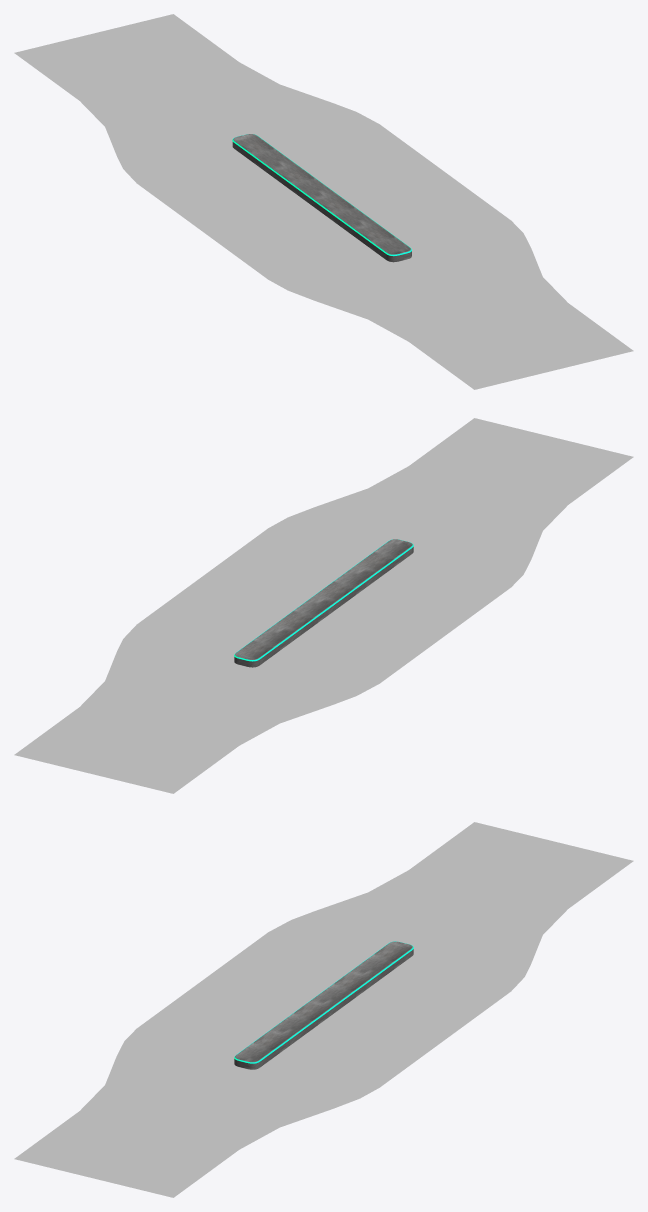
File: roaf_vhs_forvard.FBX
3 renders of one model, top to bottom at view 1: azimuth 30°, elevation 25°; view 2: azimuth 150°, elevation 25°; view 3: azimuth 330°, elevation 25°, orthographic.
Visible parts, largest first — view 1: road_forvard, Box001, obodok; view 2: road_forvard, Box001, obodok; view 3: road_forvard, Box001, obodok.
Boxes of the visible parts, box(x1,y1,x2,y2) form: road_forvard: box(14, 14, 633, 389); Box001: box(232, 134, 411, 262); obodok: box(232, 134, 411, 256); road_forvard: box(14, 418, 633, 793); Box001: box(234, 539, 413, 667); obodok: box(234, 539, 413, 661); road_forvard: box(14, 822, 633, 1197); Box001: box(234, 941, 413, 1069); obodok: box(234, 941, 413, 1063).
Size of the model in its own units: 30.45 by 100 by 0.9678.
